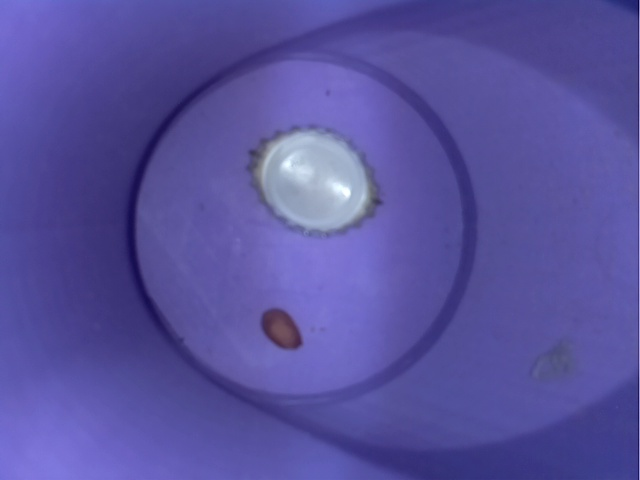capsule: (233, 105, 400, 240)
croquette: (246, 298, 319, 360)
